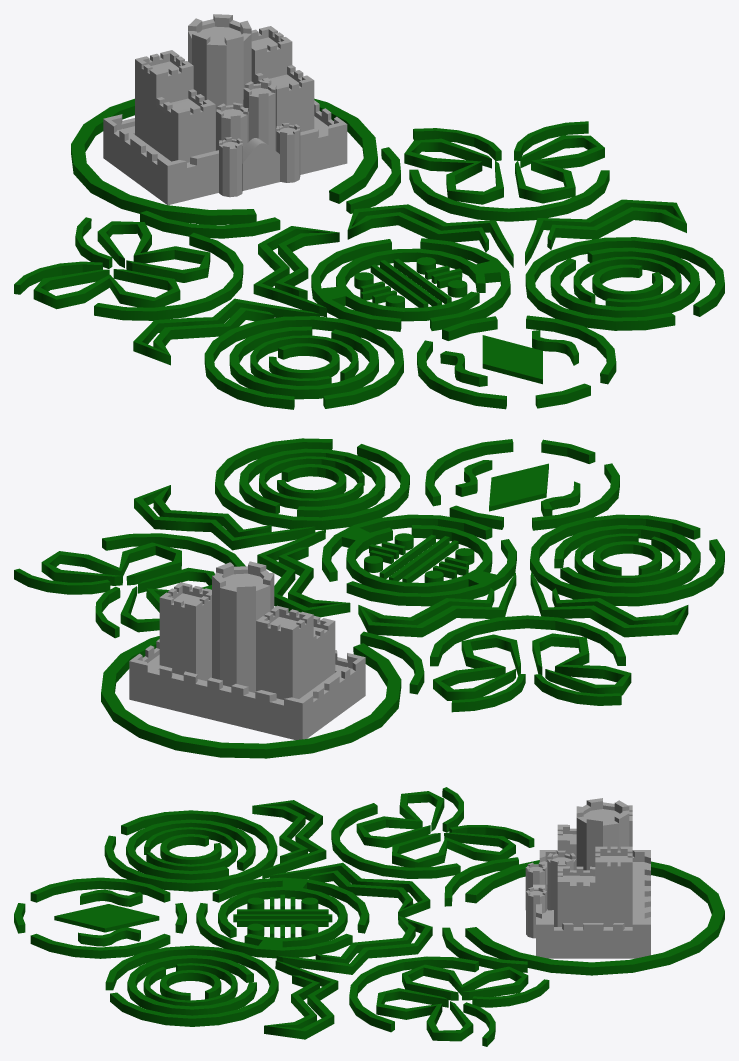
Rendered from Garden Level.fbx.
3 renders of one model, top to bottom at view 1: azimuth 30°, elevation 25°; view 2: azimuth 150°, elevation 25°; view 3: azimuth 270°, elevation 25°, orthographic. The views are drawn at different scales.
Visible parts, largest first — view 1: polySurface20; view 2: polySurface20; view 3: polySurface20.
Boxes of the visible parts, box(x1,y1,x2,y2) form: polySurface20: box(14, 14, 724, 409); polySurface20: box(14, 438, 724, 758); polySurface20: box(14, 787, 724, 1046).
Bounding box in the file's own units: 131 × 27.34 × 157.
